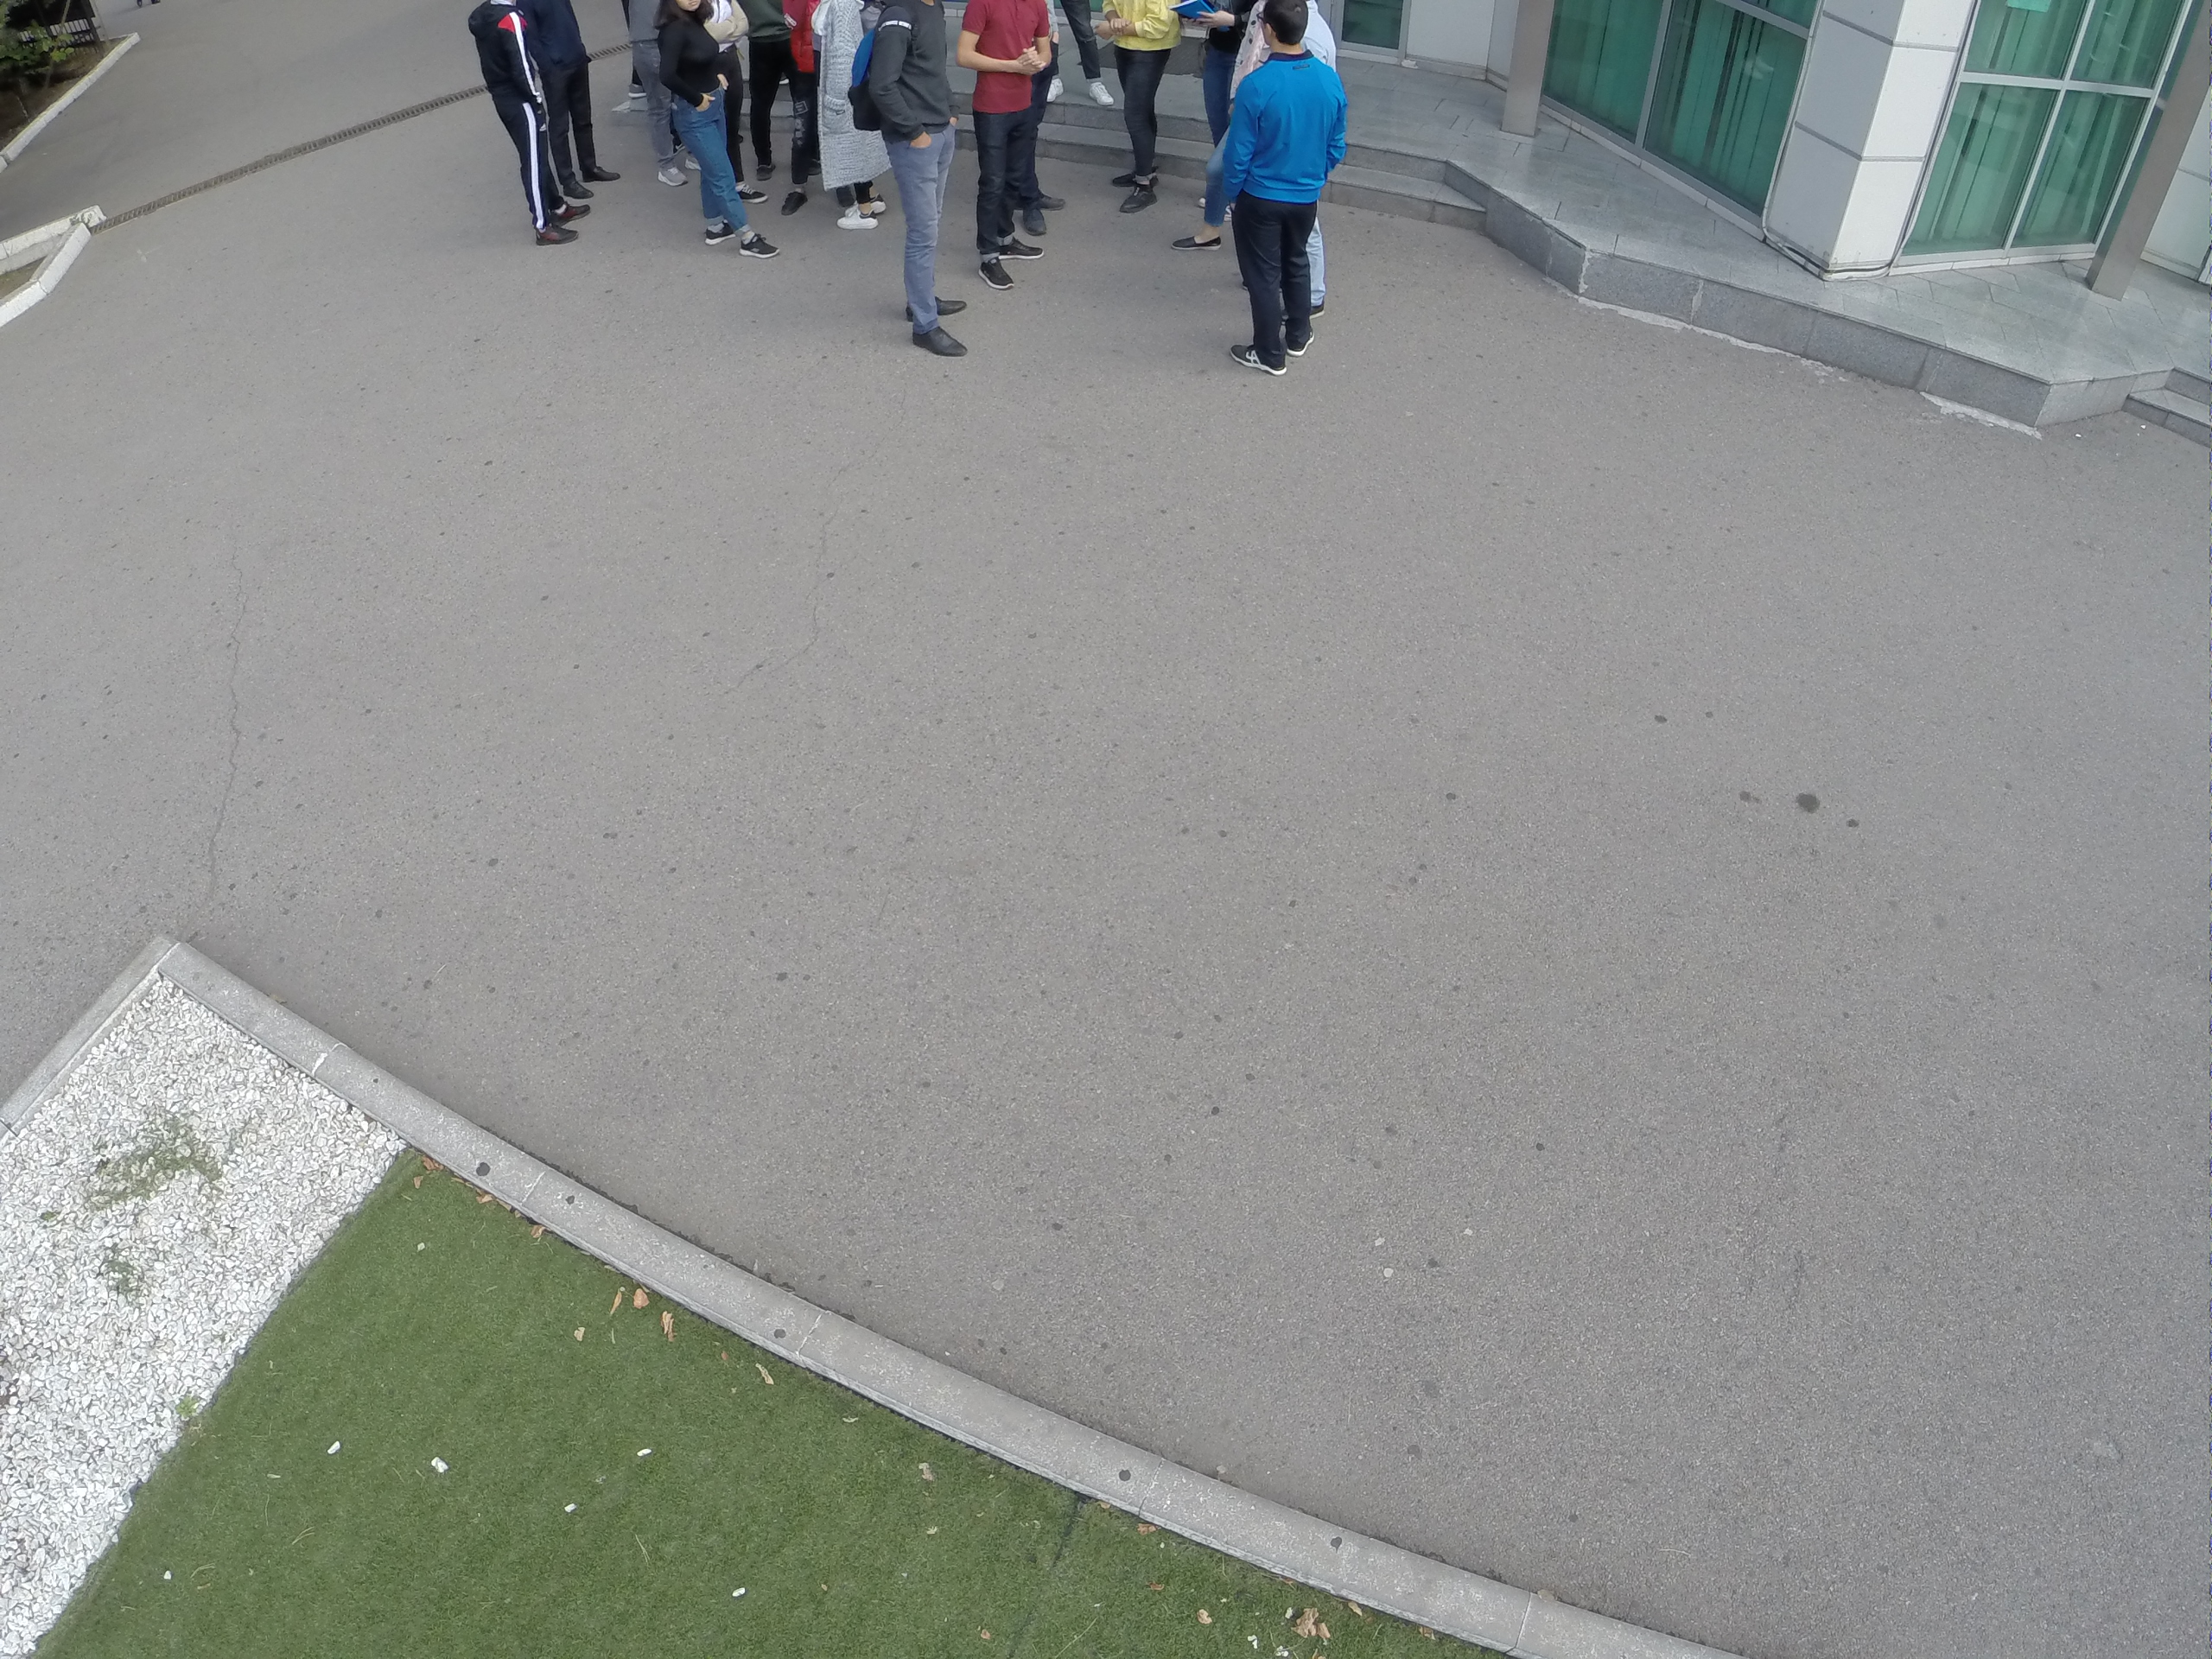person: (852, 1, 974, 372), (1211, 1, 1327, 387), (475, 1, 572, 252), (962, 1, 1037, 288), (1134, 1, 1174, 217)
